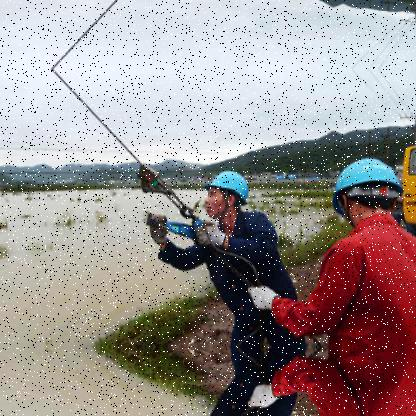Helmet: (331, 150, 412, 240), (202, 172, 256, 219)
